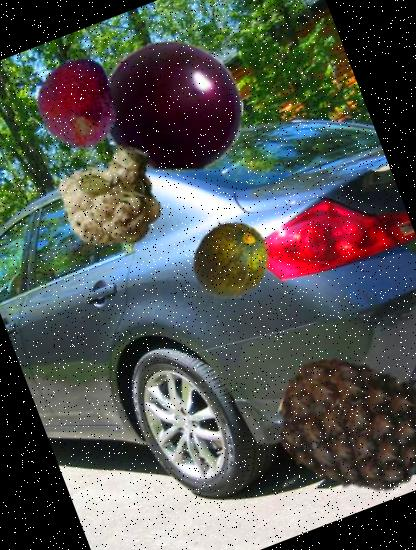Cauliflower: (44, 130, 176, 263)
Cherry: (80, 14, 263, 197)
Melon: (179, 208, 282, 310)
Pineapple: (256, 327, 416, 521)
Salak: (17, 46, 136, 164)
